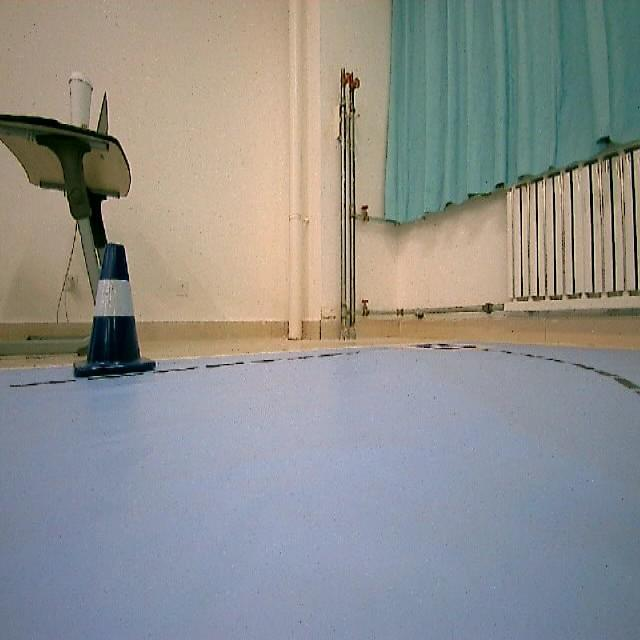obstacle: (78, 240, 153, 380)
